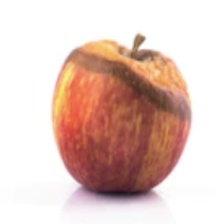apple: (14, 45, 194, 224)
